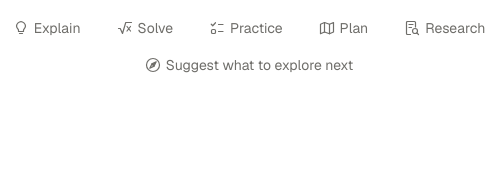
Test: distinguishes missing learning material from a provider failure and allows retry
What coordinates should you click on to do the following:
click the button "Suggest what to explore next"
I would click on:
 (249, 65)
Its box is [135,51,363,79].
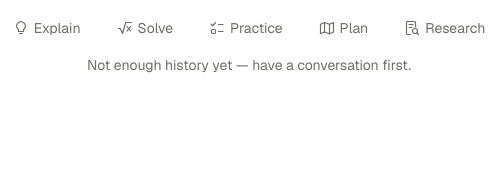
Check: the text "Not enough history yet — have a conversation first." is shown, box [83,54,415,76]
Check: the button "Suggest what to explore next" is gone
